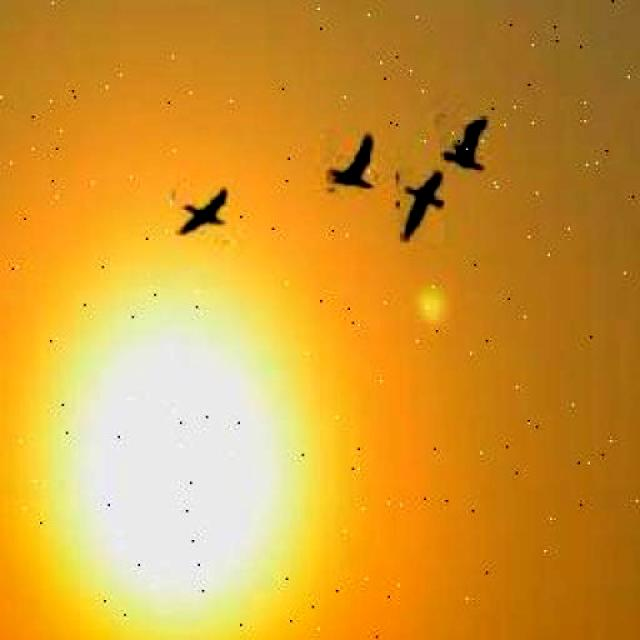airplane: (398, 166, 444, 242), (324, 130, 374, 188), (439, 115, 489, 171), (174, 185, 226, 235)
